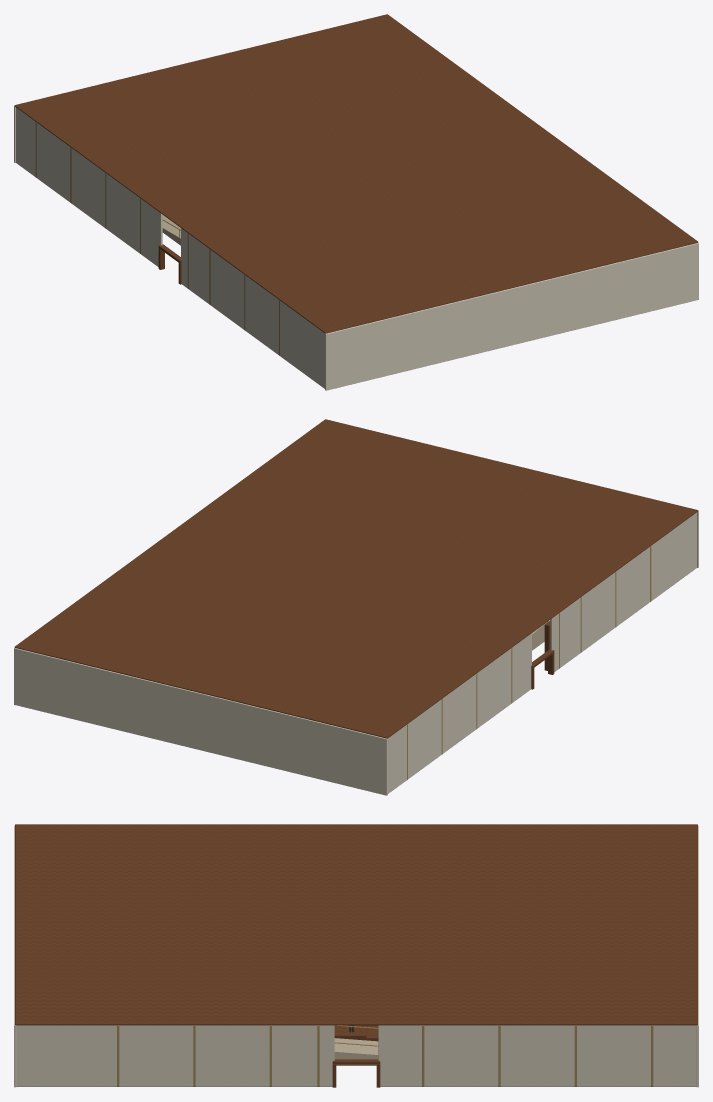
File: SOL_D11_directory_06_remaining_r001.glb
3 renders of one model, top to bottom at view 1: azimuth 30°, elevation 25°; view 2: azimuth 150°, elevation 25°; view 3: azimuth 270°, elevation 25°, orthographic. The views are drawn at different scales.
Parts seen in each view (by area): view 1: E_ceiling, E_outer_north, E_outer_west0, E_outer_west1; view 2: E_ceiling, E_outer_south, E_outer_west1, E_outer_west0; view 3: E_ceiling, E_outer_east1, E_outer_east0, E_return_ramp1.
Boxes of the visible parts, bbox=[...] form: E_ceiling: bbox=[14, 14, 698, 333]; E_outer_north: bbox=[325, 243, 698, 390]; E_outer_west0: bbox=[16, 107, 162, 266]; E_outer_west1: bbox=[181, 228, 324, 388]; E_ceiling: bbox=[14, 419, 698, 738]; E_outer_south: bbox=[14, 648, 387, 795]; E_outer_west1: bbox=[550, 512, 696, 671]; E_outer_west0: bbox=[388, 633, 531, 793]; E_ceiling: bbox=[15, 824, 697, 1025]; E_outer_east1: bbox=[16, 1025, 334, 1086]; E_outer_east0: bbox=[378, 1025, 696, 1086]; E_return_ramp1: bbox=[334, 1038, 378, 1065].
Size of the model in its own units: 49.75 by 7.34 by 71.84.
15 materials, 15 textured.
